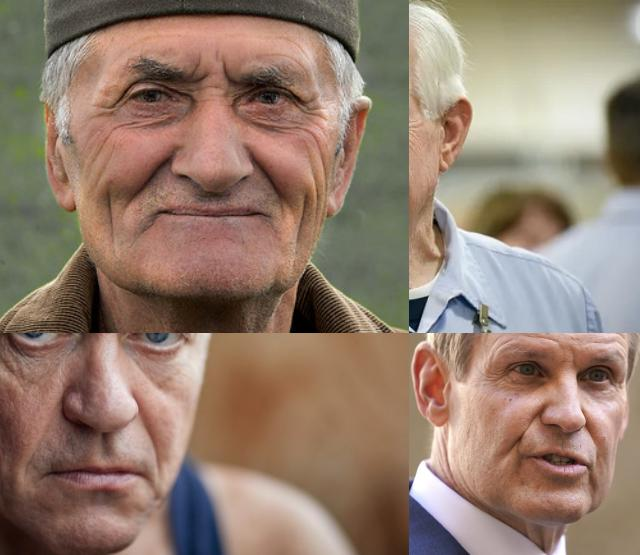crows_feet: (295, 92, 329, 124), (93, 90, 123, 126), (483, 364, 505, 388)
forehead: (272, 48, 310, 70), (578, 333, 605, 341), (610, 333, 626, 344)
frown_line: (182, 54, 214, 84), (219, 54, 239, 88), (568, 348, 580, 366)
gummy_smile: (247, 149, 281, 193), (138, 412, 164, 464), (134, 155, 172, 187), (518, 405, 538, 441), (584, 417, 600, 441)
masseter: (80, 134, 124, 168), (288, 191, 312, 243), (306, 134, 336, 174), (100, 191, 122, 233)
